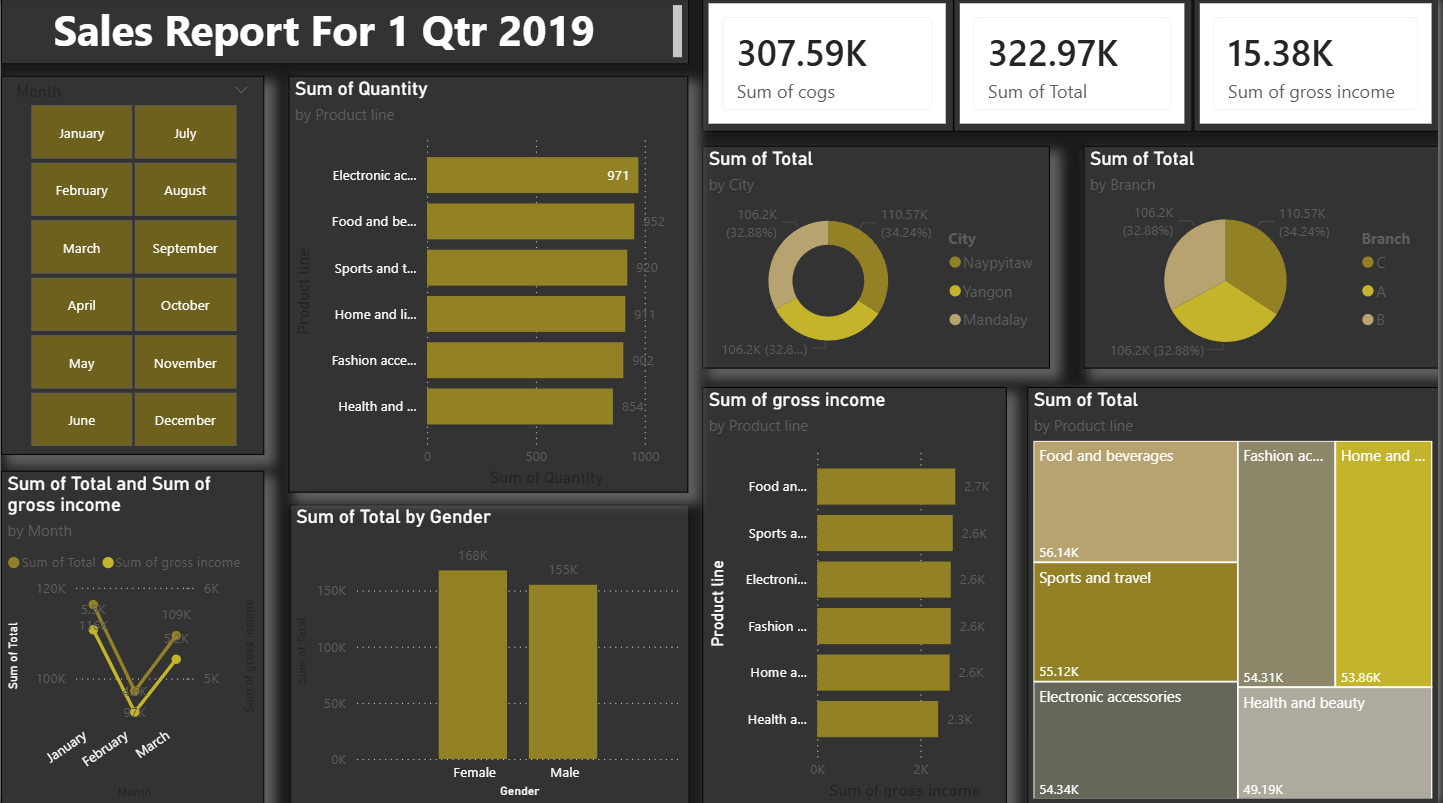

This screenshot's page, from the dashboard's own definition file:
{"tool":"powerbi","page":{"name":"Page 1","canvas":[1280,720],"ordinal":0},"visuals":[{"type":"cardVisual","fields":{"Data":["Sum(supermarket_sales.gross income)"]},"box":[1061.4,0,218.9,119.8],"z":0},{"type":"cardVisual","fields":{"Data":["Sum(supermarket_sales.Total)"]},"box":[848.6,0,212.8,119.8],"z":1000},{"type":"cardVisual","fields":{"Data":["Sum(supermarket_sales.cogs)"]},"box":[624.9,0,223.8,119.8],"z":2000},{"type":"pieChart","fields":{"Category":["supermarket_sales.Branch"],"Y":["Sum(supermarket_sales.Total)"]},"box":[963.6,132.1,316.7,198.1],"z":3000},{"type":"donutChart","fields":{"Category":["supermarket_sales.City"],"Y":["Sum(supermarket_sales.Total)"]},"box":[624.9,132.1,309.4,198.1],"z":4000},{"type":"treemap","fields":{"Group":["supermarket_sales.Product line"],"Values":["Sum(supermarket_sales.Total)"]},"box":[913.5,347.3,366.8,373],"z":5000},{"type":"clusteredColumnChart","fields":{"Category":["supermarket_sales.Gender"],"Y":["Sum(supermarket_sales.Total)"]},"box":[256.8,452.4,355.8,267.8],"z":6000},{"type":"slicer","fields":{"Values":["supermarket_sales.Date.Variation.Date Hierarchy.Month"]},"box":[0,70,234,337.8],"z":7000},{"type":"lineChart","fields":{"Category":["supermarket_sales.Date.Variation.Date Hierarchy.Month"],"Y":["Sum(supermarket_sales.Total)"],"Y2":["Sum(supermarket_sales.gross income)"]},"box":[0,422.3,234,298],"z":8000},{"type":"clusteredBarChart","fields":{"Category":["supermarket_sales.Product line"],"Y":["Sum(supermarket_sales.gross income)"]},"box":[624.9,347.3,271.5,373],"z":9000},{"type":"clusteredBarChart","fields":{"Category":["supermarket_sales.Product line"],"Y":["Sum(supermarket_sales.Quantity)"]},"box":[255.8,70,355.9,371.6],"z":10000},{"type":"textbox","box":[0,0,612.6,59.9],"z":11000}]}

Visuals, with their boxes in screenshot pixels (x1, y1, x2, y2), scaled from the page's 1280x720 canvas onto the 1443x803 screenshot:
cardVisual - Sum(supermarket_sales.gross income): {"x1": 1197, "y1": 0, "x2": 1442, "y2": 134}
cardVisual - Sum(supermarket_sales.Total): {"x1": 957, "y1": 0, "x2": 1197, "y2": 134}
cardVisual - Sum(supermarket_sales.cogs): {"x1": 704, "y1": 0, "x2": 957, "y2": 134}
pieChart - supermarket_sales.Branch x Sum(supermarket_sales.Total): {"x1": 1086, "y1": 147, "x2": 1442, "y2": 368}
donutChart - supermarket_sales.City x Sum(supermarket_sales.Total): {"x1": 704, "y1": 147, "x2": 1053, "y2": 368}
treemap - supermarket_sales.Product line x Sum(supermarket_sales.Total): {"x1": 1030, "y1": 387, "x2": 1442, "y2": 802}
clusteredColumnChart - supermarket_sales.Gender x Sum(supermarket_sales.Total): {"x1": 290, "y1": 505, "x2": 691, "y2": 802}
slicer - supermarket_sales.Date.Variation.Date Hierarchy.Month: {"x1": 0, "y1": 78, "x2": 264, "y2": 455}
lineChart - supermarket_sales.Date.Variation.Date Hierarchy.Month x Sum(supermarket_sales.Total): {"x1": 0, "y1": 471, "x2": 264, "y2": 802}
clusteredBarChart - supermarket_sales.Product line x Sum(supermarket_sales.gross income): {"x1": 704, "y1": 387, "x2": 1011, "y2": 802}
clusteredBarChart - supermarket_sales.Product line x Sum(supermarket_sales.Quantity): {"x1": 288, "y1": 78, "x2": 690, "y2": 493}
textbox: {"x1": 0, "y1": 0, "x2": 691, "y2": 67}
